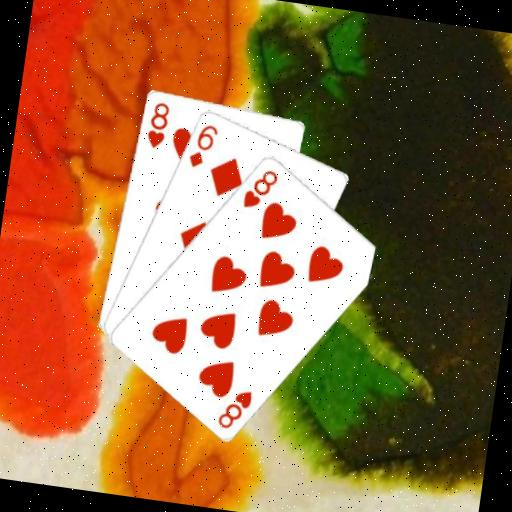6D: (184, 118, 221, 171)
8H: (240, 163, 281, 213), (214, 383, 255, 433), (143, 98, 173, 151)
